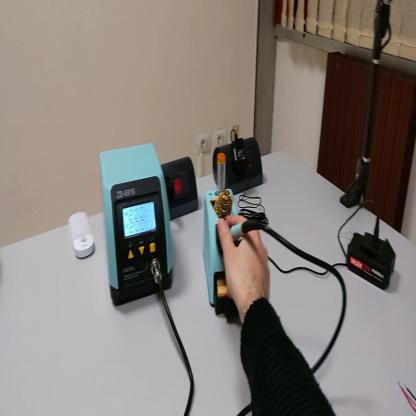electric screwdriver battery: (348, 231, 398, 298)
hand: (216, 212, 270, 312)
high voltage board: (399, 381, 416, 410)
socket: (212, 138, 265, 197), (161, 152, 199, 225)
welder base: (208, 154, 248, 324)
welder probe tip: (227, 217, 259, 242)
welder station: (99, 144, 176, 310)
